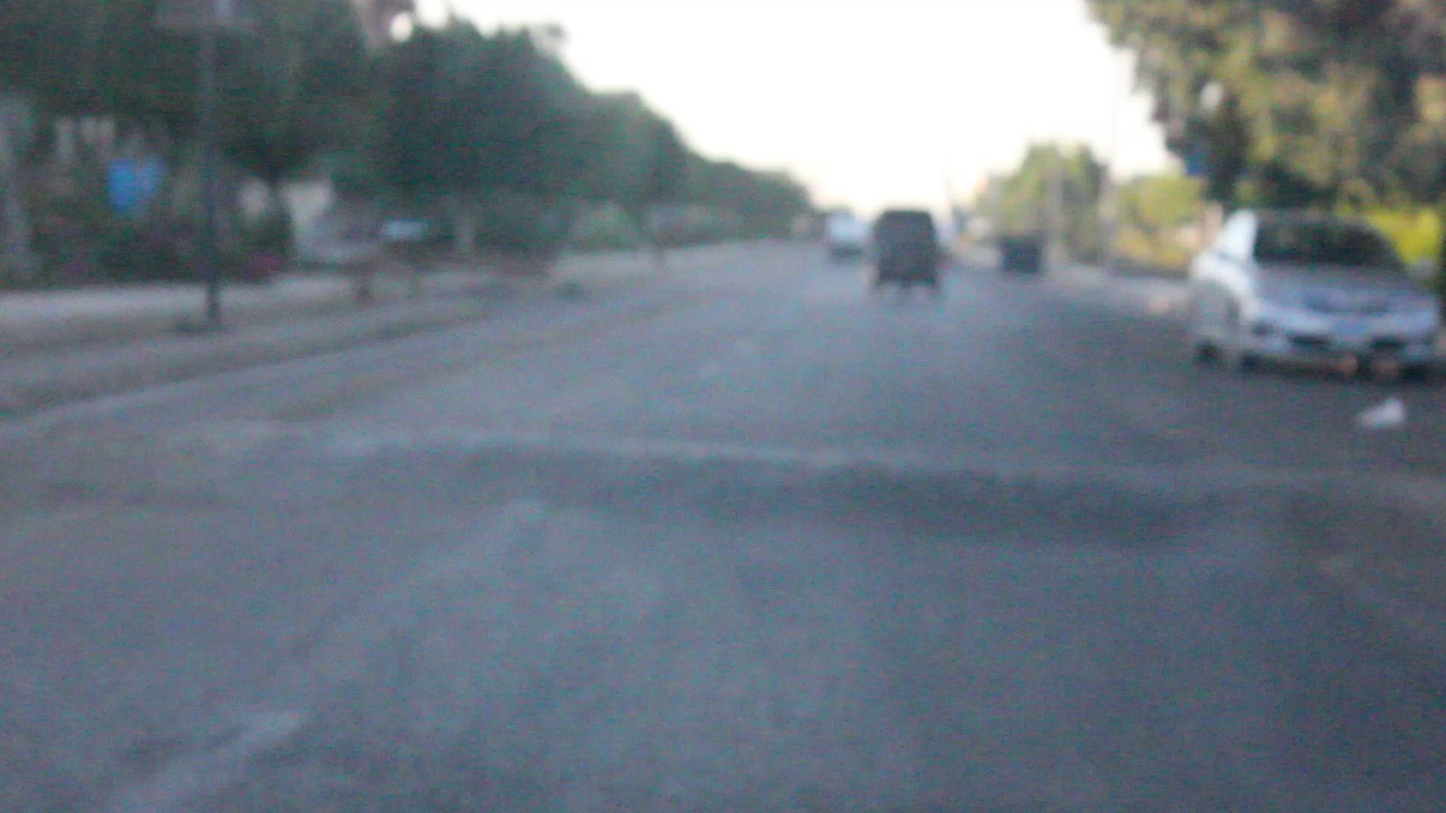Bump: (83, 423, 1438, 550)
